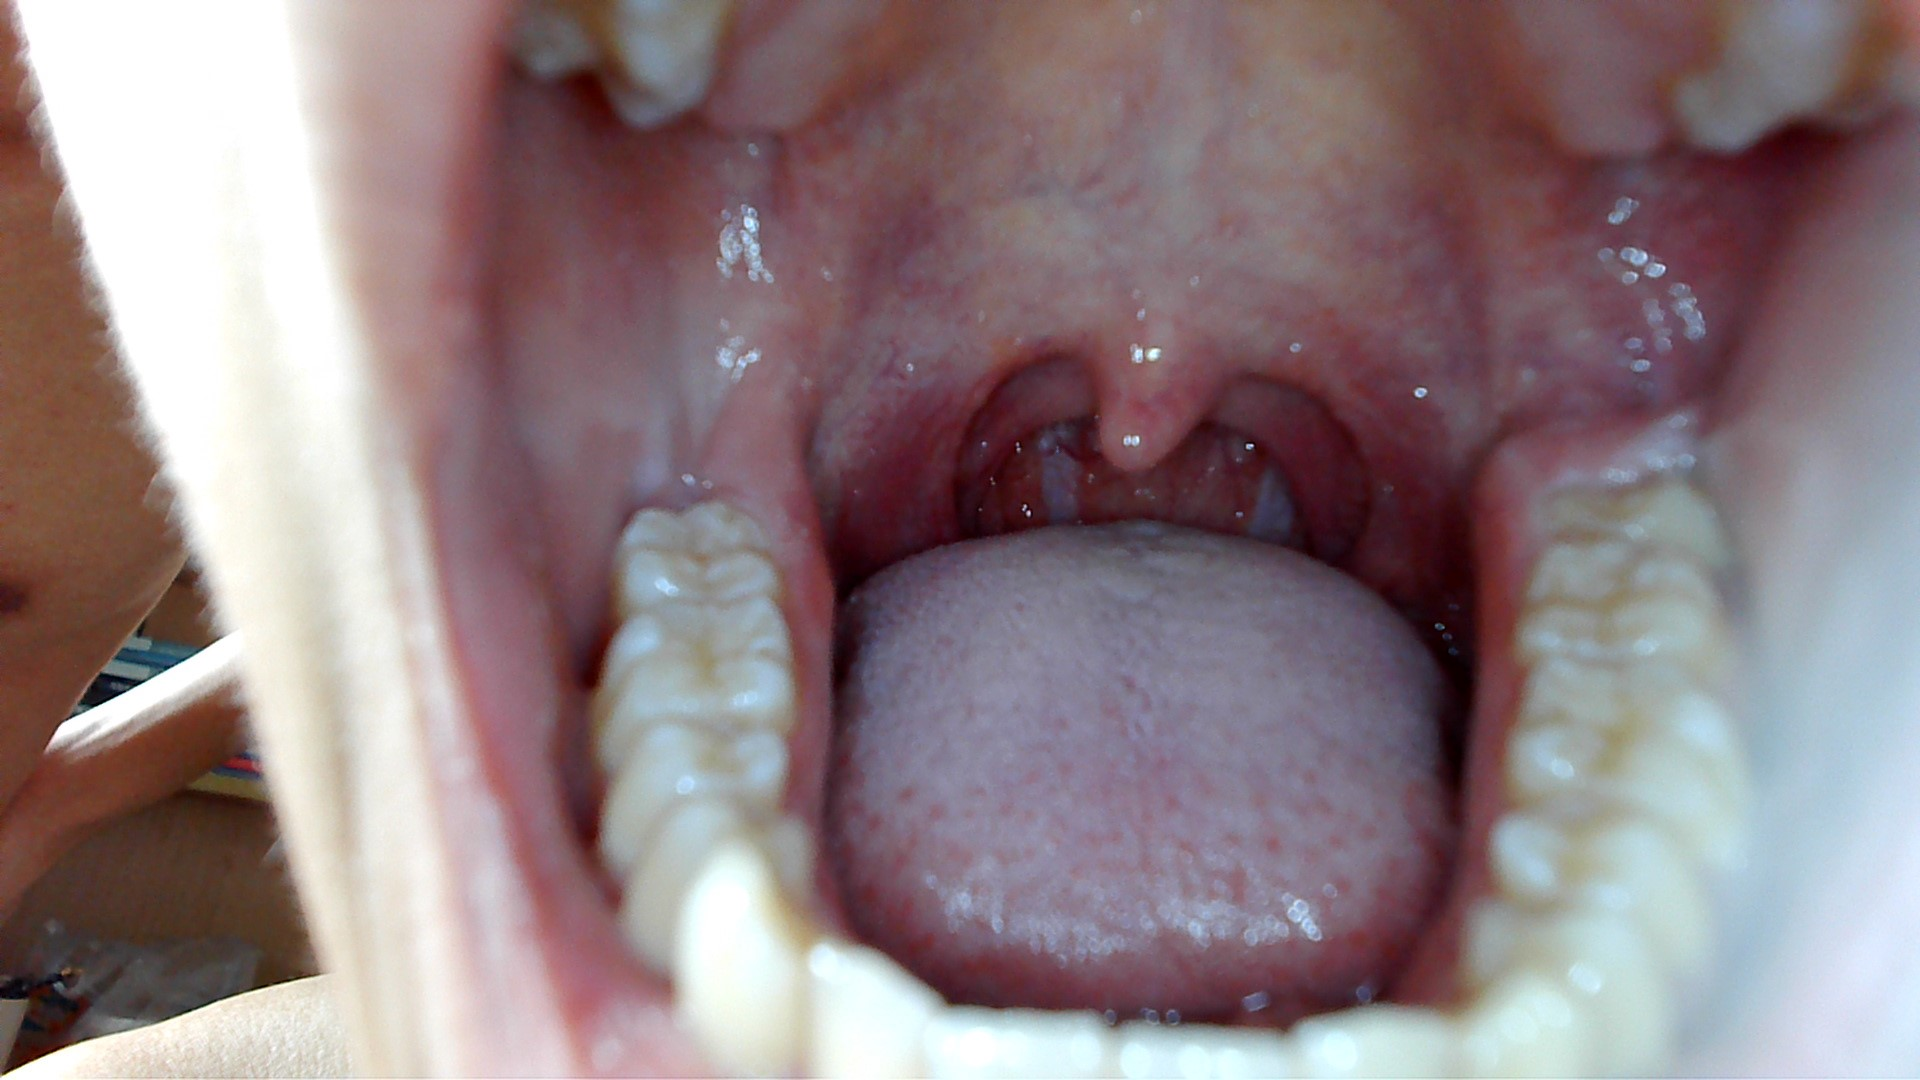throat: (1294, 336, 1429, 568), (918, 324, 1046, 541)
